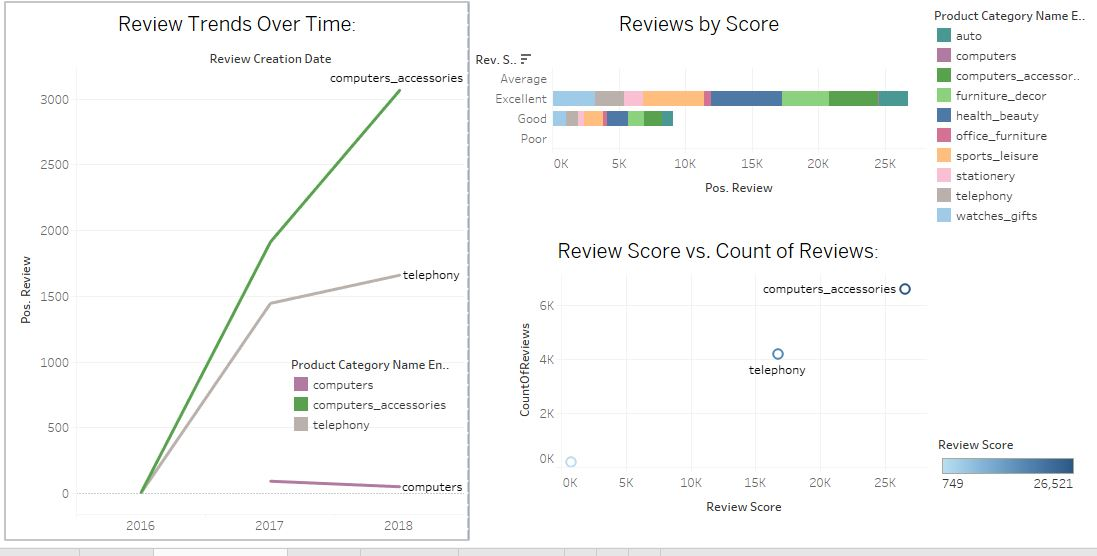

Layout of this report page (visuals, bound fields, positions):
{"tool":"tableau","page":{"name":"Review Score Plot","canvas":[1000,1000],"units":"permille","ordinal":1},"visuals":[{"type":"worksheet","title":"PRev. (Line)","mark":"Automatic","rows":["Neg. Review (copy)_123004571972726787"],"cols":["review_creation_date"],"box":[7.3,14.5,420,971]},{"type":"worksheet","title":"PRev. (Bar)","mark":"Automatic","rows":["Calculation_123004571965337601"],"cols":["Neg. Review (copy)_123004571972726787"],"box":[427.3,14.5,420,971]},{"type":"legend","title":"PRev. (Bar)","param":"[federated.1l3oi871vrfygu15miblp1d2oay6].[none:product_category_name_english:nk]","box":[847.3,14.5,145.5,652.2]},{"type":"worksheet","title":"PRev. (SP)","mark":"Automatic","rows":["Calculation_123004571965468674"],"cols":["review_score"],"box":[464.6,433,380,521.7]},{"type":"legend","title":"PRev. (Line)","param":"[federated.1l3oi871vrfygu15miblp1d2oay6].[none:product_category_name_english:nk]","box":[266.4,654,145.5,141.3]},{"type":"legend","title":"PRev. (SP)","param":"[federated.1l3oi871vrfygu15miblp1d2oay6].[sum:review_score:qk]","box":[854.6,798.9,127.3,137.7]}]}

Visuals, with their boxes on the dashboard's canvas, which has no fixed pixel size, in thousandths of its width and height (x1, y1, x2, y2). These are canvas units, not pixel positions in the 1097x556 screenshot, which may show the page scaled, cropped or inside an application window:
"PRev. (Line)" worksheet: l=7, t=14, r=427, b=986
"PRev. (Bar)" worksheet: l=427, t=14, r=847, b=986
"PRev. (Bar)" legend: l=847, t=14, r=993, b=667
"PRev. (SP)" worksheet: l=465, t=433, r=845, b=955
"PRev. (Line)" legend: l=266, t=654, r=412, b=795
"PRev. (SP)" legend: l=855, t=799, r=982, b=937
